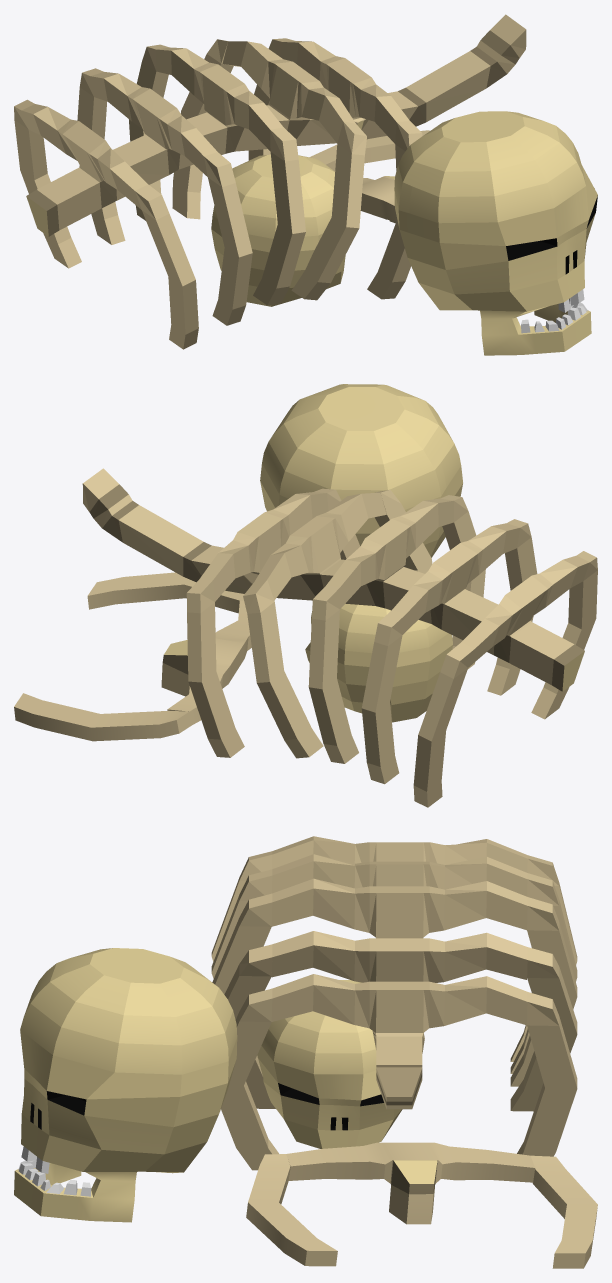
File: esqu5.fbx
3 views of the same model, one above another, from view 1: azimuth 30°, elevation 25°; view 2: azimuth 150°, elevation 25°; view 3: azimuth 270°, elevation 25° (orthographic). The views are drawn at different scales.
Visible parts, largest first — view 1: Columna3, Cabeza_Entera3, Cabeza_Parte_Arriba6, Costilla_8; view 2: Columna3, Cabeza_Entera3, Costilla_8, Cabeza_Parte_Arriba6; view 3: Columna3, Cabeza_Entera3, Costilla_8, Cabeza_Parte_Arriba6.
Part boxes in pixels (box(x1,y1,x2,y2)): Columna3: box(14, 14, 526, 349); Cabeza_Entera3: box(394, 111, 597, 355); Cabeza_Parte_Arriba6: box(211, 154, 345, 306); Costilla_8: box(310, 130, 594, 223); Columna3: box(82, 468, 597, 807); Cabeza_Entera3: box(260, 384, 462, 557); Costilla_8: box(14, 572, 251, 741); Cabeza_Parte_Arriba6: box(305, 603, 452, 722); Columna3: box(211, 836, 577, 1170); Cabeza_Entera3: box(14, 948, 237, 1222); Costilla_8: box(246, 1142, 597, 1268); Cabeza_Parte_Arriba6: box(257, 980, 402, 1148).
Size of the model in its own units: 4.98 by 1.93 by 4.34.
